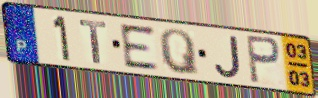1: (51, 15, 73, 63)
E: (117, 23, 161, 72)
J: (213, 34, 243, 80)
P: (244, 33, 283, 86)
Q: (157, 27, 201, 78)
T: (78, 19, 109, 66)
